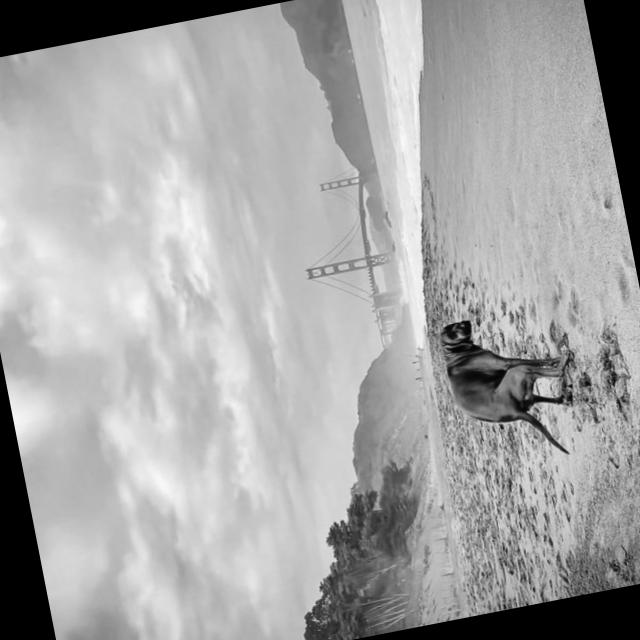squatting: (430, 296, 592, 476)
